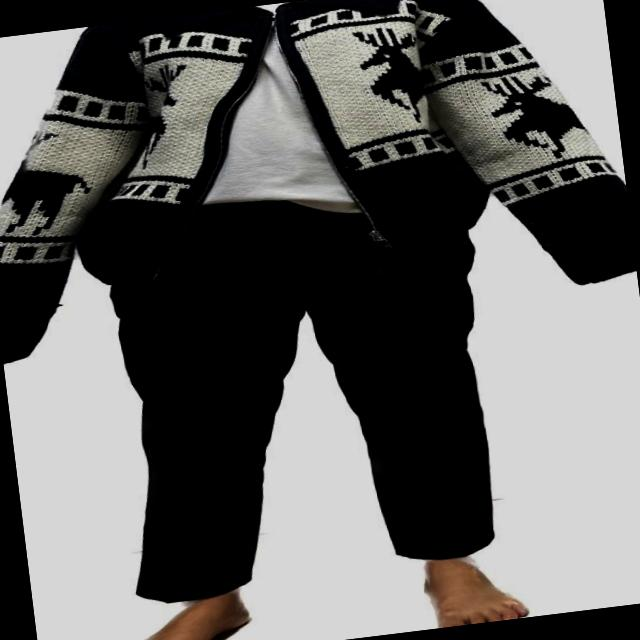cardigan: (0, 0, 637, 358)
denimpants: (76, 160, 520, 614)
